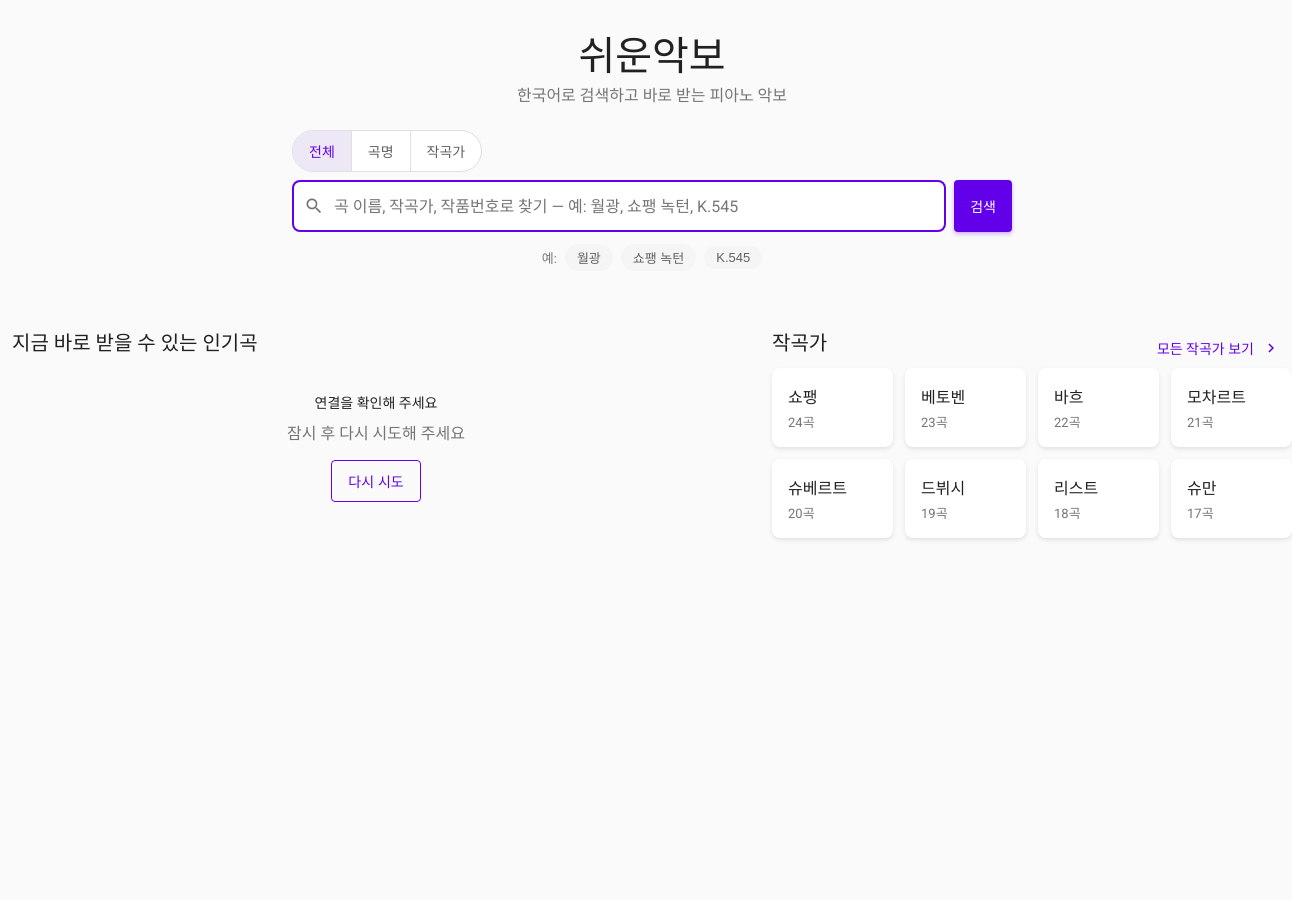
Test: HomePage — 인기곡 › '다시 시도' 를 누르면 인기곡을 다시 요청한다
Click the button "다시 시도".
click(376, 481)  # box top-left (331, 460), bottom-right (421, 502)
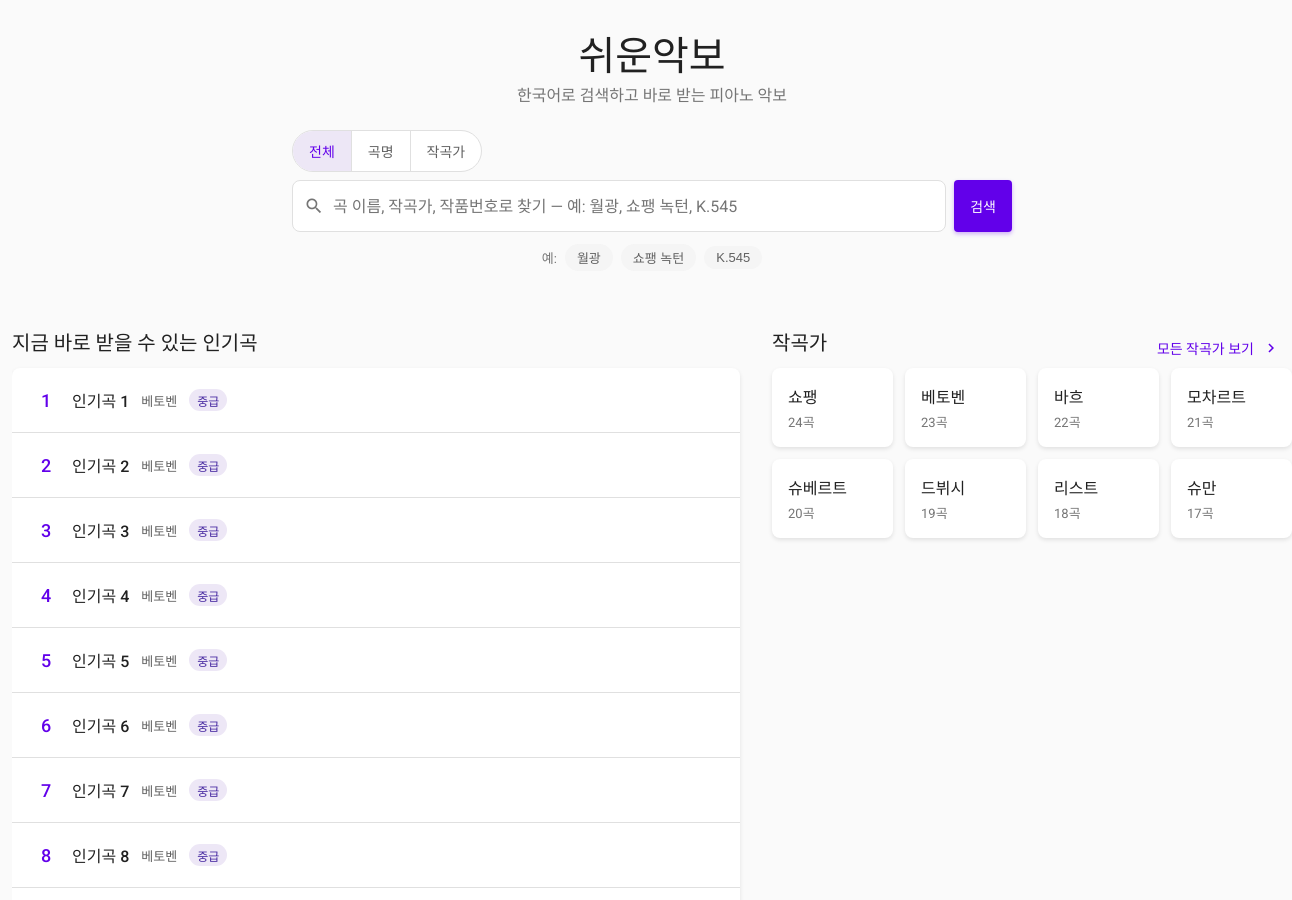
Check: the text "인기곡 1" is shown, box top-left (72, 388), bottom-right (129, 412)
